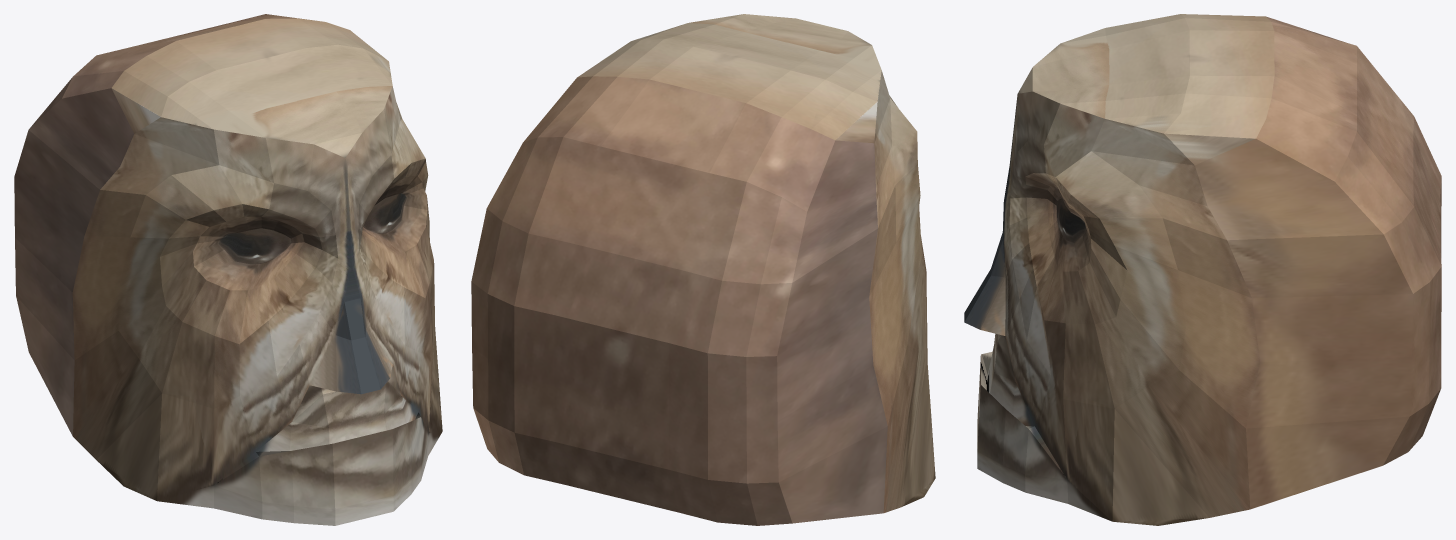
File: Head.fbx
3 views of the same model, side by side, from view 1: azimuth 30°, elevation 25°; view 2: azimuth 150°, elevation 25°; view 3: azimuth 270°, elevation 25° (orthographic). The views are drawn at different scales.
Visible parts, largest first — view 1: Head; view 2: Head; view 3: Head.
Part boxes in pixels (x1=…): Head: x1=14, y1=14, x2=442, y2=525; Head: x1=471, y1=14, x2=935, y2=525; Head: x1=964, y1=14, x2=1441, y2=525.
Size of the model in its own units: 346 by 393 by 425.
